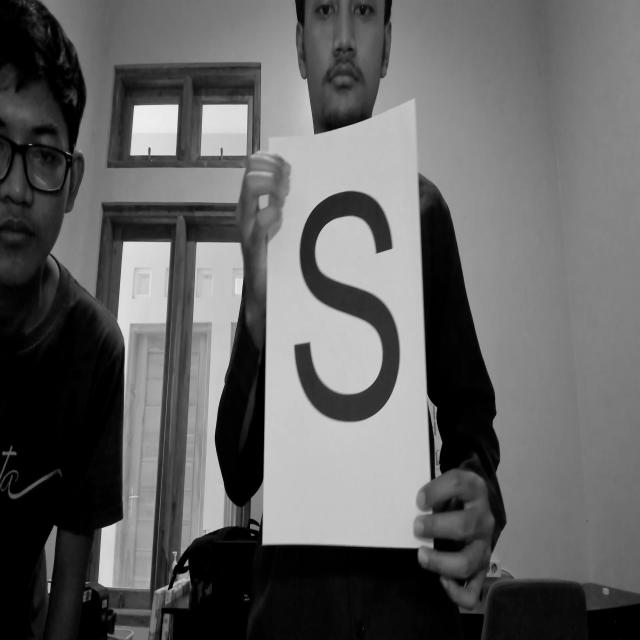s: (285, 170, 411, 441)
